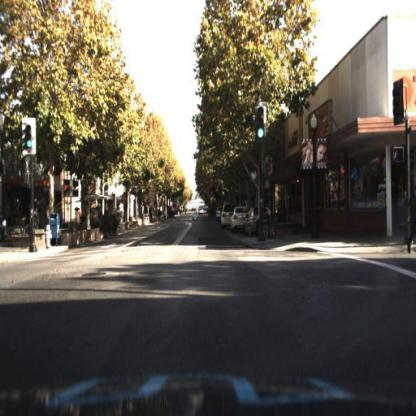car: (243, 204, 271, 235), (232, 208, 250, 241), (220, 197, 237, 231), (231, 207, 245, 234), (222, 203, 231, 226)
pedestrian: (405, 187, 416, 251), (256, 204, 268, 246)
trafficLight: (255, 106, 265, 144)
trafficLight-Green: (25, 120, 34, 155)
